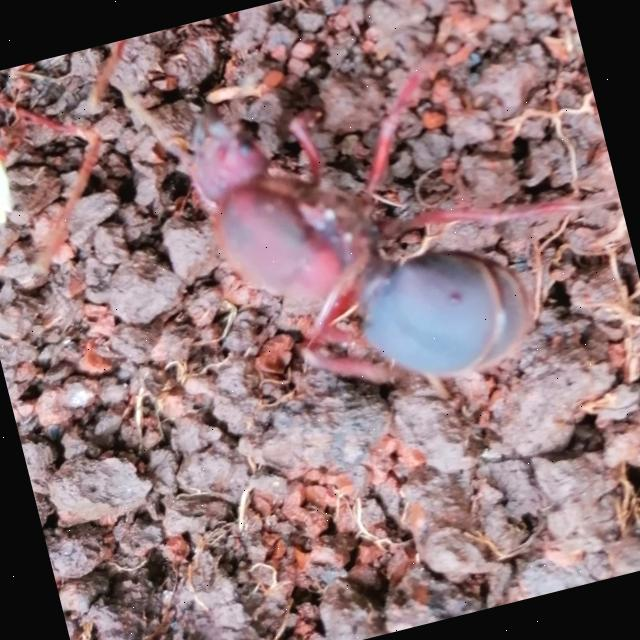Alive-Female-Dealate: (171, 12, 640, 429)
